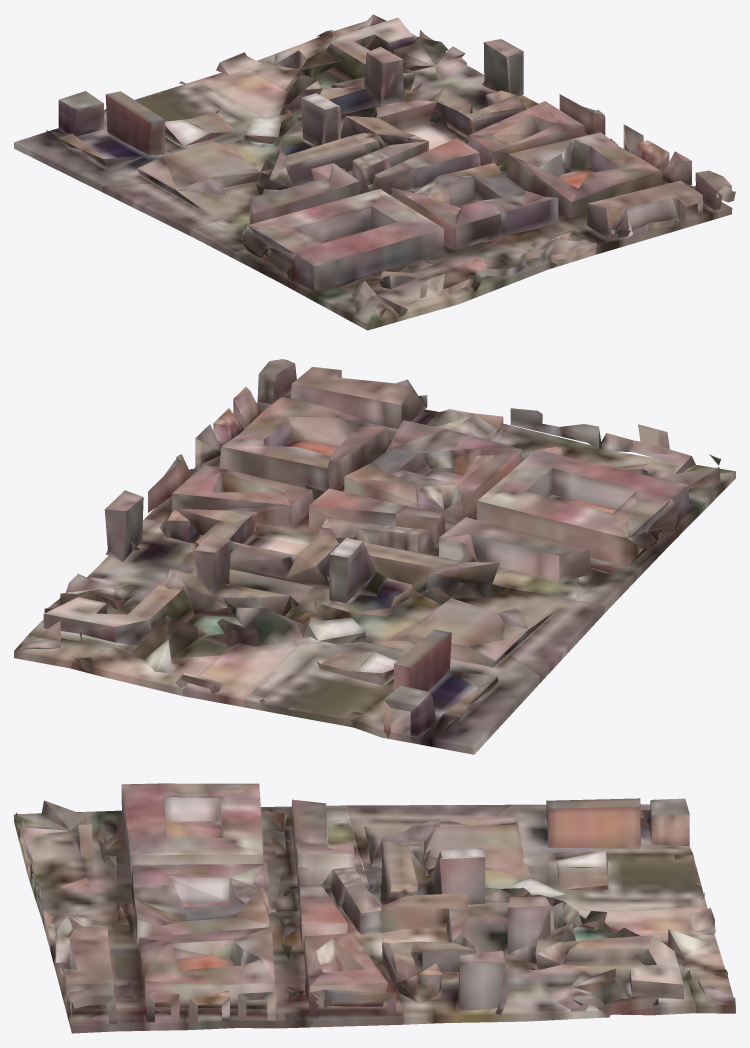
The picture shows the model from 3 angles, top to bottom: view 1: azimuth 30°, elevation 25°; view 2: azimuth 150°, elevation 25°; view 3: azimuth 270°, elevation 25°; orthographic projection. The views are drawn at different scales.
Visible parts, largest first — view 1: Mesh_0; view 2: Mesh_0; view 3: Mesh_0.
Part boxes in pixels (bbox=[...]): Mesh_0: bbox=[14, 14, 735, 330]; Mesh_0: bbox=[14, 359, 735, 754]; Mesh_0: bbox=[14, 783, 735, 1033].
Size of the model in its own units: 538 by 76.91 by 659.
2 materials, 2 textured.
